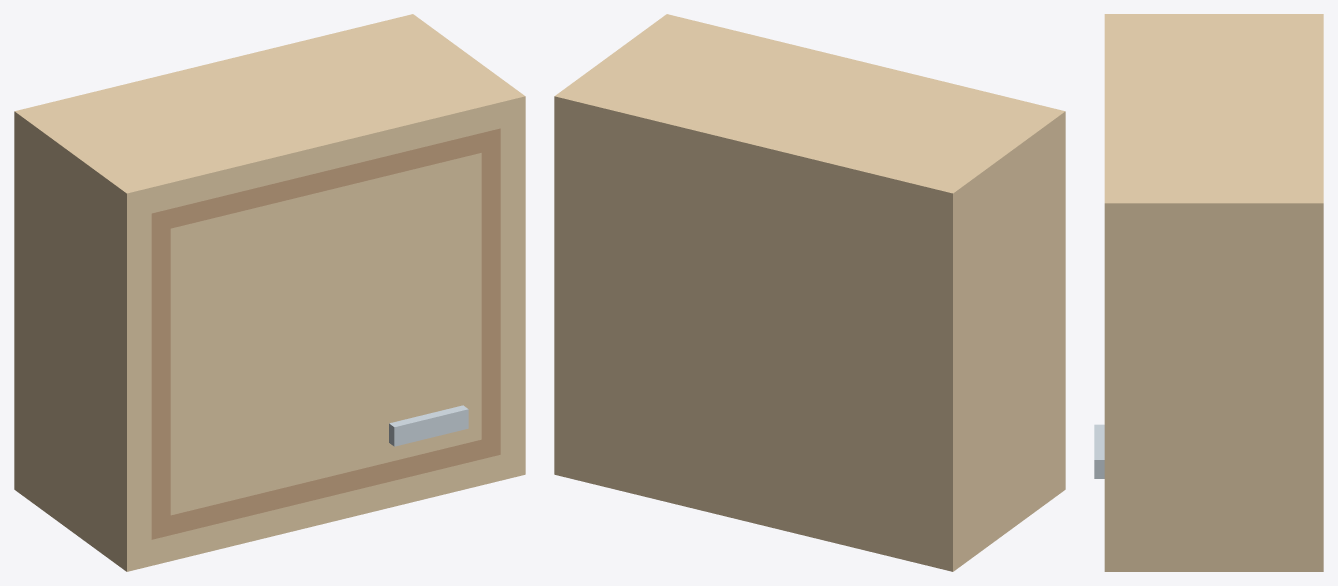
Rendered from kitchenCabinetUpper.glb.
3 views of the same model, side by side, from view 1: azimuth 30°, elevation 25°; view 2: azimuth 150°, elevation 25°; view 3: azimuth 270°, elevation 25° (orthographic). The views are drawn at different scales.
Visible parts, largest first — view 1: kitchenCabinetUpper(Clone), door; view 2: kitchenCabinetUpper(Clone); view 3: kitchenCabinetUpper(Clone), door.
Part boxes in pixels (x1=…): kitchenCabinetUpper(Clone): x1=14, y1=14, x2=525, y2=571; door: x1=151, y1=128, x2=500, y2=539; kitchenCabinetUpper(Clone): x1=554, y1=14, x2=1065, y2=571; kitchenCabinetUpper(Clone): x1=1104, y1=14, x2=1323, y2=571; door: x1=1094, y1=424, x2=1104, y2=478.
Size of the model in its own units: 0.43 by 0.39 by 0.22.
